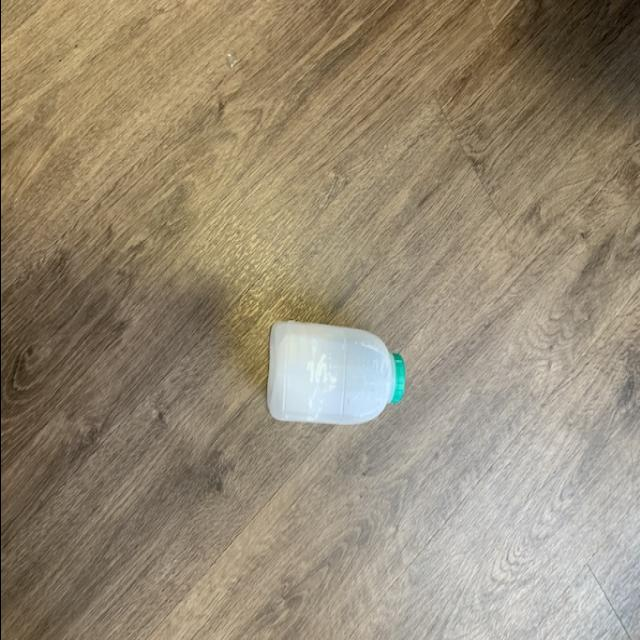litter: (267, 322, 407, 427)
